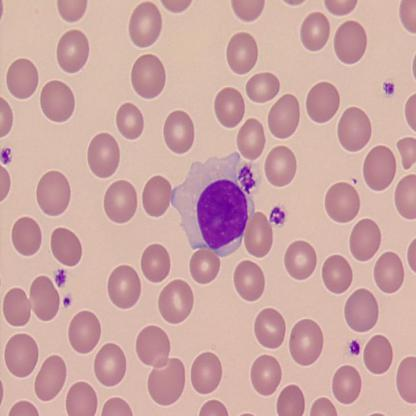Lymphocyte: (172, 150, 256, 258)
